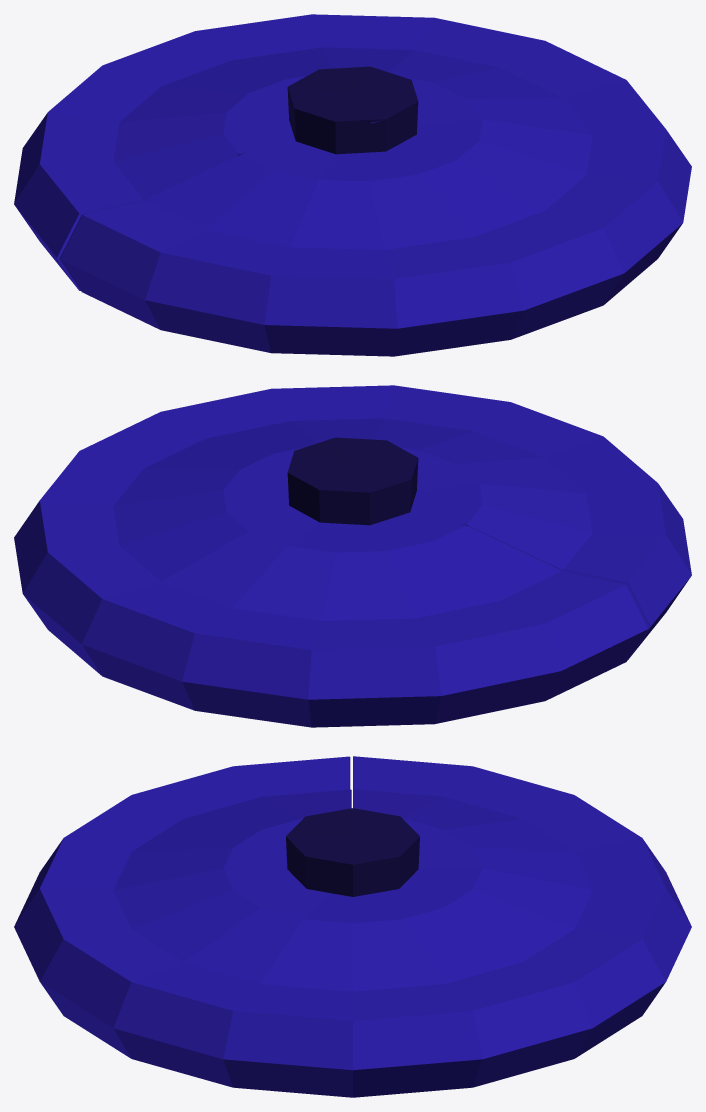
Rendered from vignette.obj.
The picture shows the model from 3 angles, top to bottom: view 1: azimuth 30°, elevation 25°; view 2: azimuth 150°, elevation 25°; view 3: azimuth 270°, elevation 25°; orthographic projection.
Parts seen in each view (by area): view 1: 球; view 2: 球; view 3: 球.
Boxes of the visible parts, left/top/right/bottom form: 球: left=14, top=14, right=691, bottom=356; 球: left=14, top=385, right=691, bottom=727; 球: left=14, top=756, right=691, bottom=1097.
Size of the model in its own units: 2.46 by 0.5949 by 2.46.
Materials: 1 (1 with a texture image).
